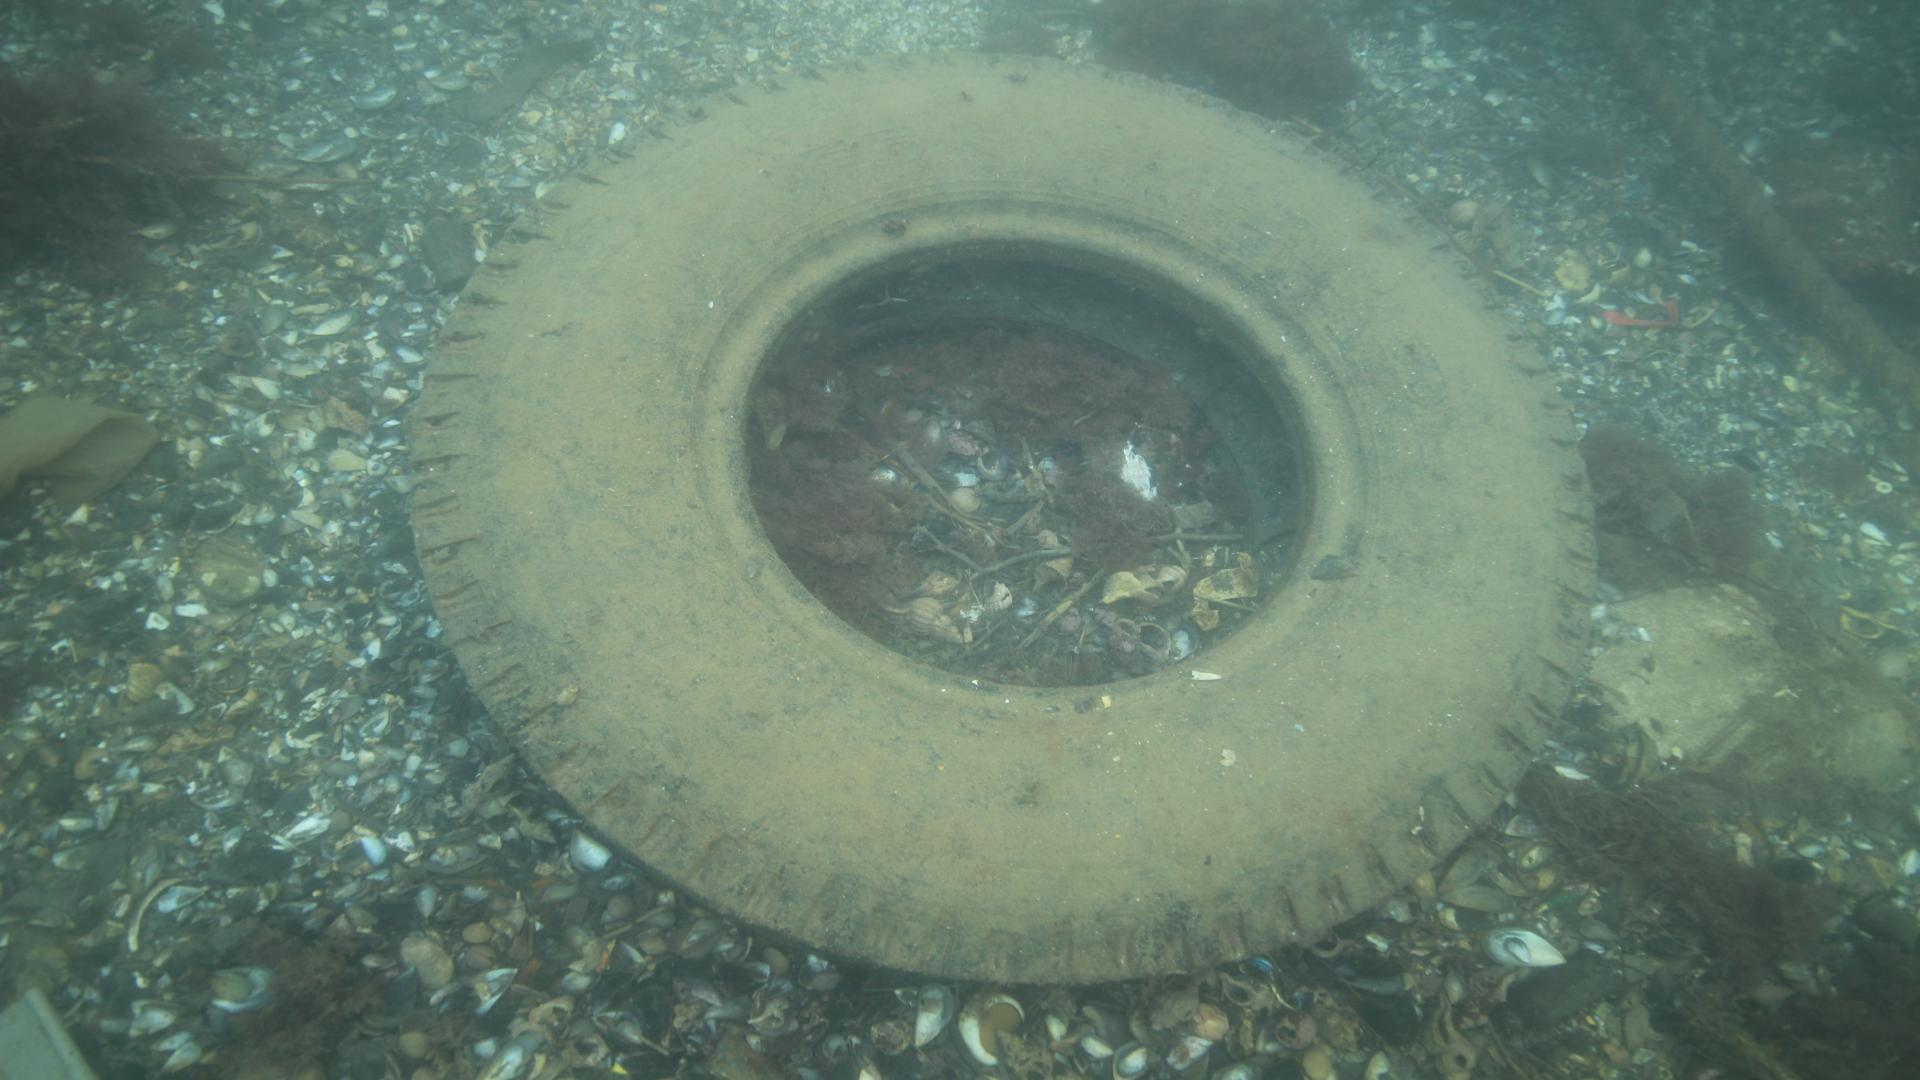rope: (1585, 1, 1920, 407)
tire: (409, 51, 1600, 989)
